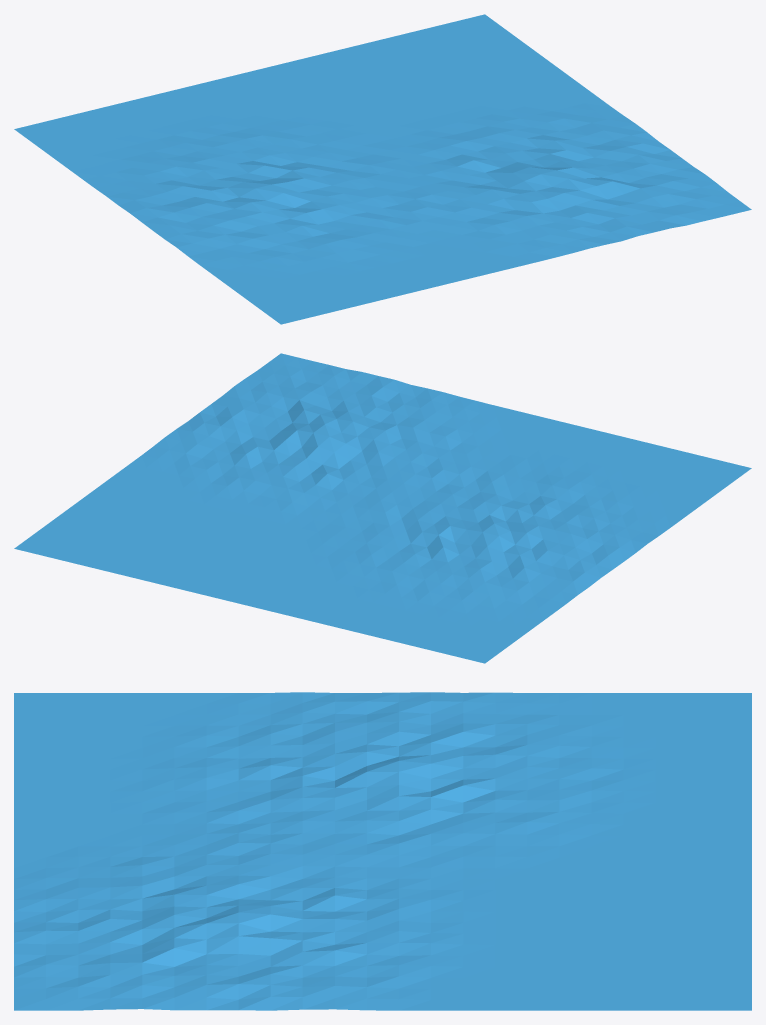
The model's file is beach.fbx.
3 renders of one model, top to bottom at view 1: azimuth 30°, elevation 25°; view 2: azimuth 150°, elevation 25°; view 3: azimuth 270°, elevation 25°, orthographic. The views are drawn at different scales.
Visible parts, largest first — view 1: Plane; view 2: Plane; view 3: Plane.
Boxes of the visible parts, x1=… form: Plane: x1=14, y1=14, x2=751, y2=324; Plane: x1=14, y1=353, x2=751, y2=663; Plane: x1=14, y1=692, x2=751, y2=1010.
Size of the model in its own units: 41.19 by 0.6454 by 40.44.
